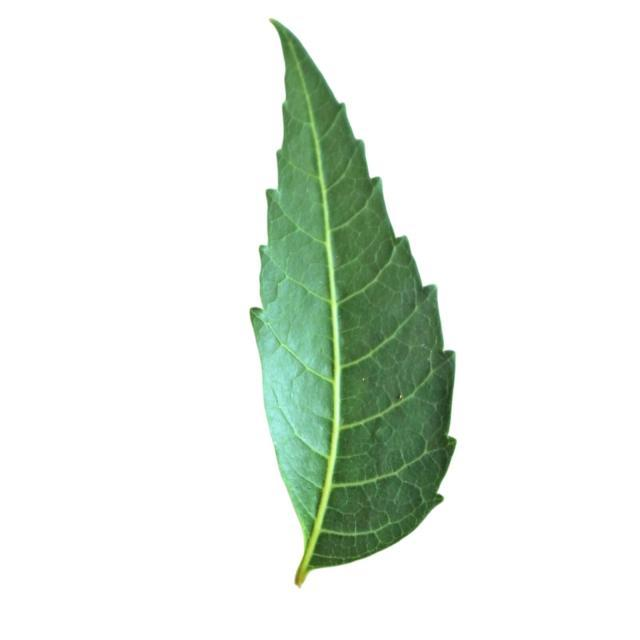Wet: (187, 8, 479, 596)
